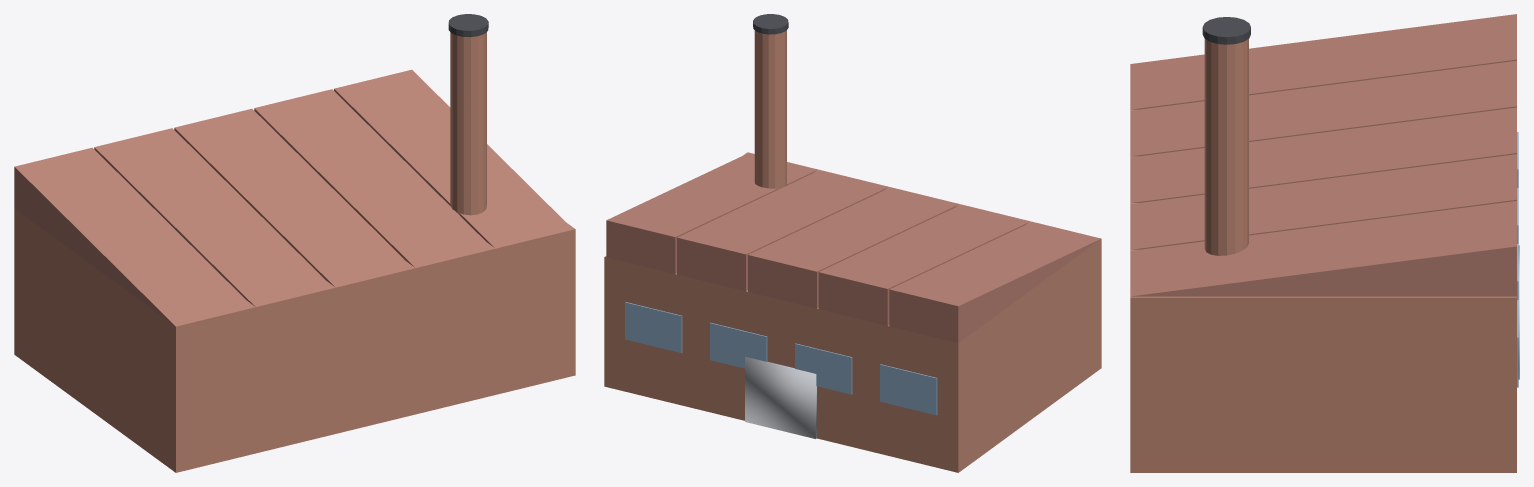
File: B_factory.fbx
The picture shows the model from 3 angles, left to right: view 1: azimuth 30°, elevation 25°; view 2: azimuth 150°, elevation 25°; view 3: azimuth 270°, elevation 25°; orthographic projection. The views are drawn at different scales.
Visible parts, largest first — view 1: Brick.001, Roof.006, Dark.016; view 2: Brick.001, Roof.006, Glass.010, Metal.010, Dark.016; view 3: Roof.006, Brick.001, Dark.016, Glass.010.
Boxes of the visible parts, x1,y1,x2,y2 form: Brick.001: [14, 32, 575, 472]; Roof.006: [14, 69, 572, 326]; Dark.016: [448, 14, 488, 37]; Brick.001: [604, 30, 1101, 472]; Roof.006: [606, 152, 1100, 343]; Glass.010: [625, 302, 937, 415]; Metal.010: [745, 357, 816, 438]; Dark.016: [753, 14, 788, 34]; Roof.006: [1130, 14, 1516, 296]; Brick.001: [1130, 39, 1516, 472]; Dark.016: [1202, 17, 1250, 44]; Glass.010: [1517, 132, 1518, 387].
Bounding box in the file's own units: 4000 × 3250 × 2820.
